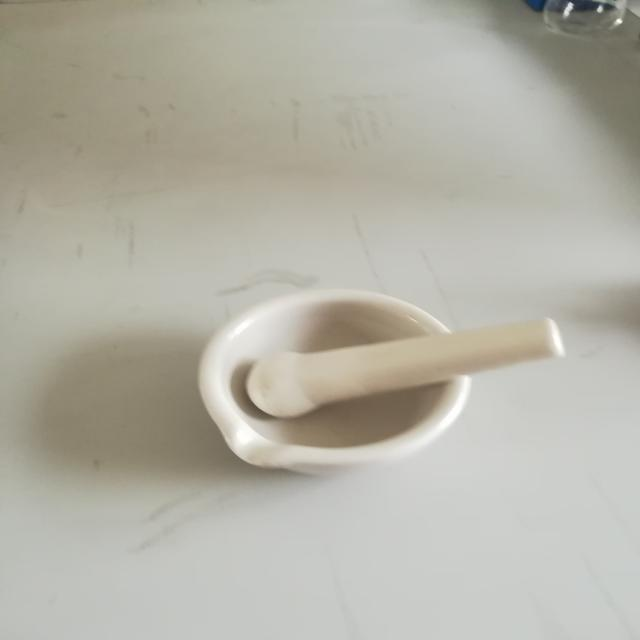Porcelain_Mortar Pestle: (155, 250, 590, 496)
